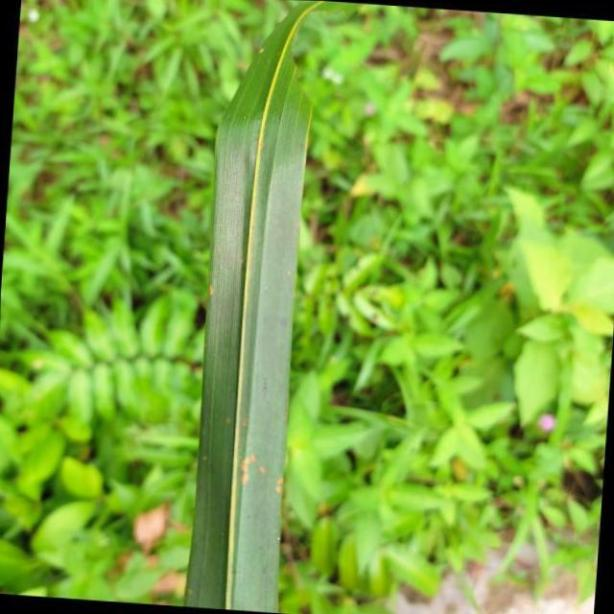Boron: (182, 0, 323, 614)
